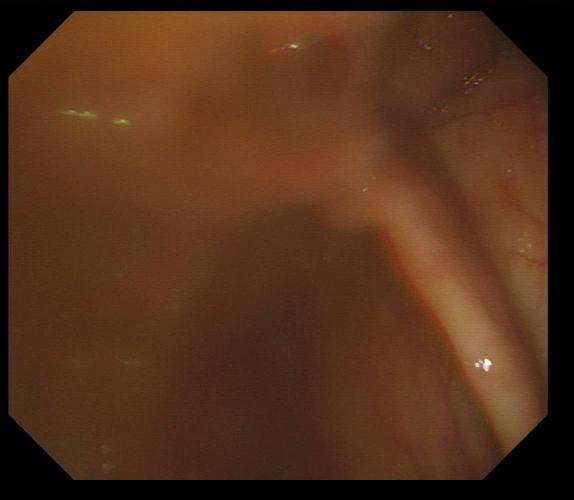polyp: (313, 157, 377, 225)
